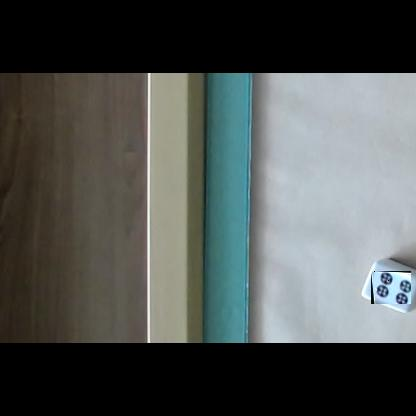4p: (371, 271, 411, 304)
